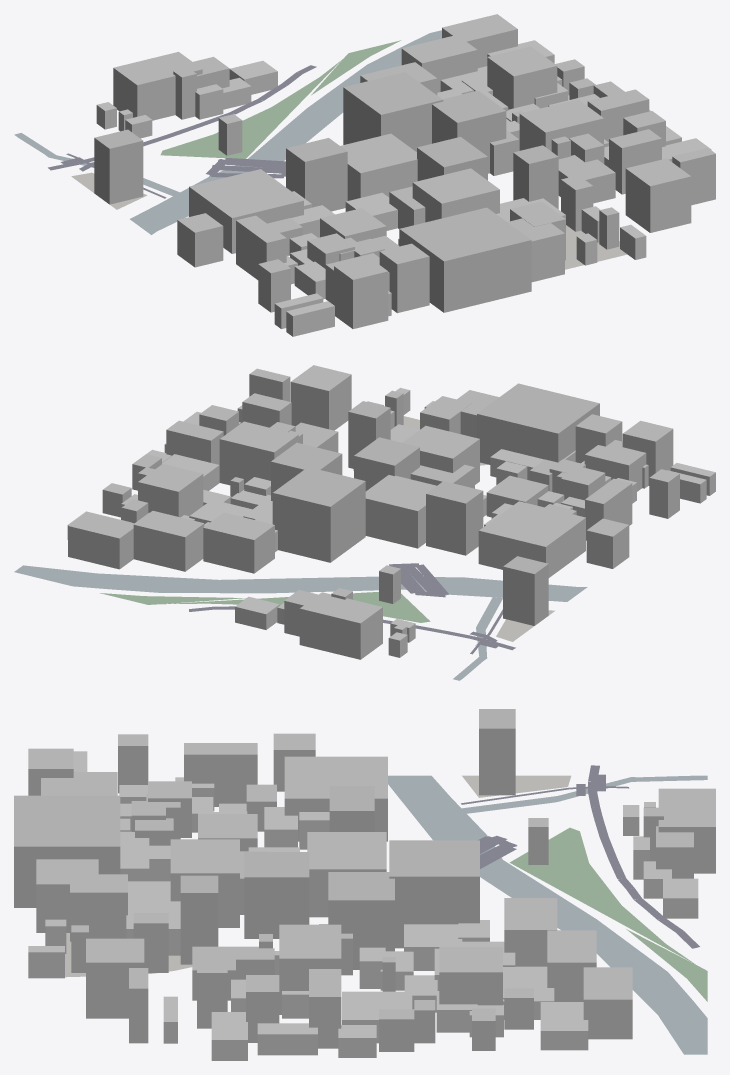
File: 119_106_mid.glb
The picture shows the model from 3 angles, top to bottom: view 1: azimuth 30°, elevation 25°; view 2: azimuth 150°, elevation 25°; view 3: azimuth 270°, elevation 25°; orthographic projection. The views are drawn at different scales.
Bounding box in the file's own units: 524 × 60.23 × 532.
